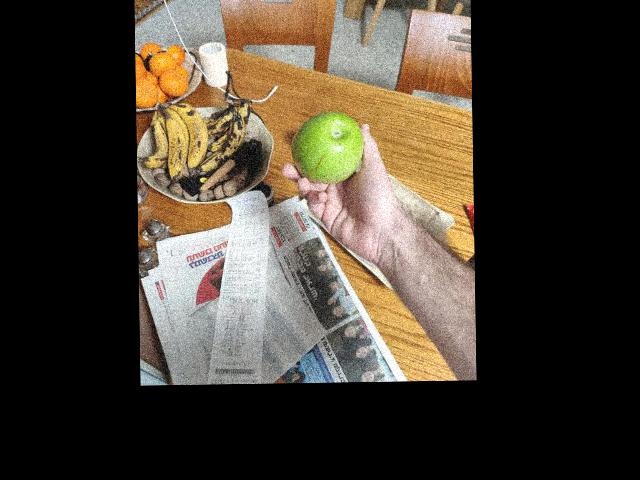apple: (292, 110, 367, 181)
